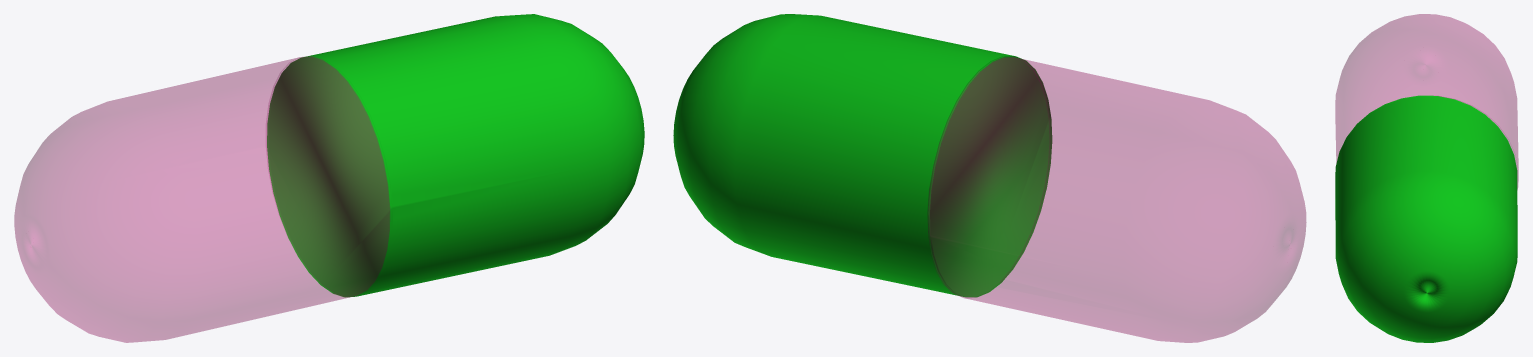
Rendered from pill.fbx.
The picture shows the model from 3 angles, left to right: view 1: azimuth 30°, elevation 25°; view 2: azimuth 150°, elevation 25°; view 3: azimuth 270°, elevation 25°; orthographic projection. The views are drawn at different scales.
Parts seen in each view (by area): view 1: Cylinder.002, Cylinder.001; view 2: Cylinder.002, Cylinder.001; view 3: Cylinder.002, Cylinder.001.
Boxes of the visible parts, left/top/right/bottom form: Cylinder.002: left=267, top=14, right=644, bottom=297; Cylinder.001: left=14, top=56, right=389, bottom=342; Cylinder.002: left=673, top=14, right=1052, bottom=297; Cylinder.001: left=928, top=57, right=1306, bottom=342; Cylinder.002: left=1335, top=95, right=1517, bottom=342; Cylinder.001: left=1335, top=14, right=1518, bottom=189.
Size of the model in its own units: 562 by 208 by 201.
